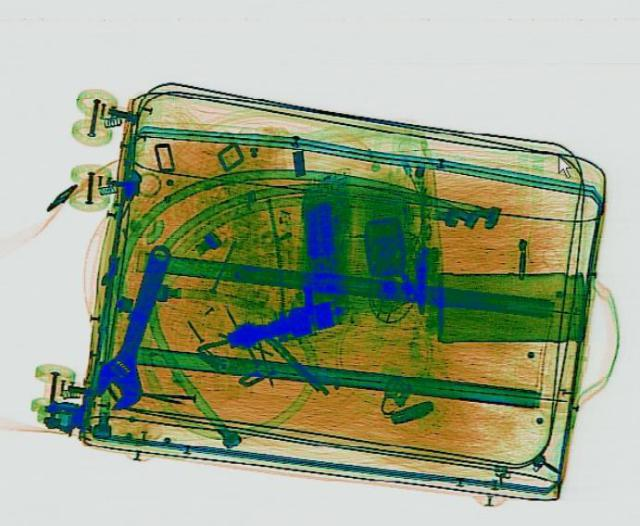Wrench: (84, 240, 188, 412)
